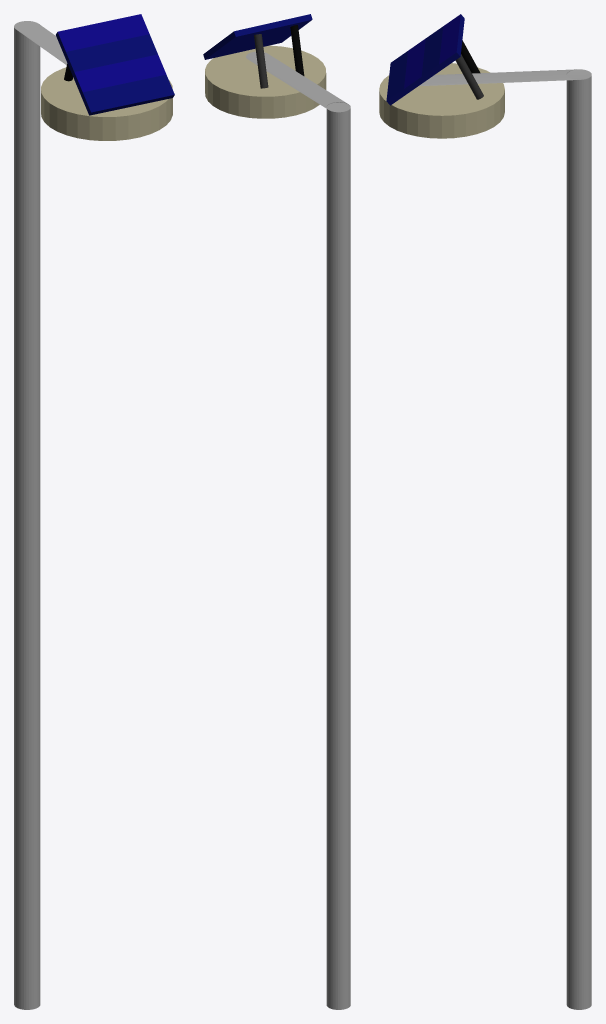
The model's file is lantaarn.fbx.
The picture shows the model from 3 angles, left to right: view 1: azimuth 30°, elevation 25°; view 2: azimuth 210°, elevation 25°; view 3: azimuth 270°, elevation 25°; orthographic projection. The views are drawn at different scales.
Parts seen in each view (by area): view 1: Cylinder, Cube, Cylinder.001; view 2: Cylinder, Cylinder.001, Cube, Cylinder.002, Cylinder.003; view 3: Cylinder, Cylinder.001, Cube.
Boxes of the visible parts, <box> form: Cylinder: <box>14,21,67,1009</box>; Cube: <box>56,14,174,115</box>; Cylinder.001: <box>41,67,172,140</box>; Cylinder: <box>246,51,350,1009</box>; Cylinder.001: <box>205,45,326,118</box>; Cube: <box>203,14,312,59</box>; Cylinder.002: <box>254,34,268,88</box>; Cylinder.003: <box>290,25,304,75</box>; Cylinder: <box>419,69,591,1009</box>; Cylinder.001: <box>379,63,504,138</box>; Cube: <box>386,14,464,105</box>.
Size of the model in its own units: 200 by 1712 by 338.
